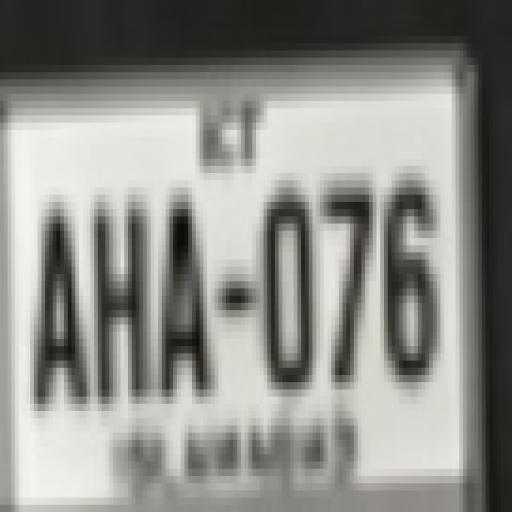0: (256, 198, 312, 373)
6: (381, 160, 433, 392)
7: (314, 180, 378, 390)
A: (31, 214, 91, 422), (154, 189, 206, 393)
H: (92, 208, 148, 402)
